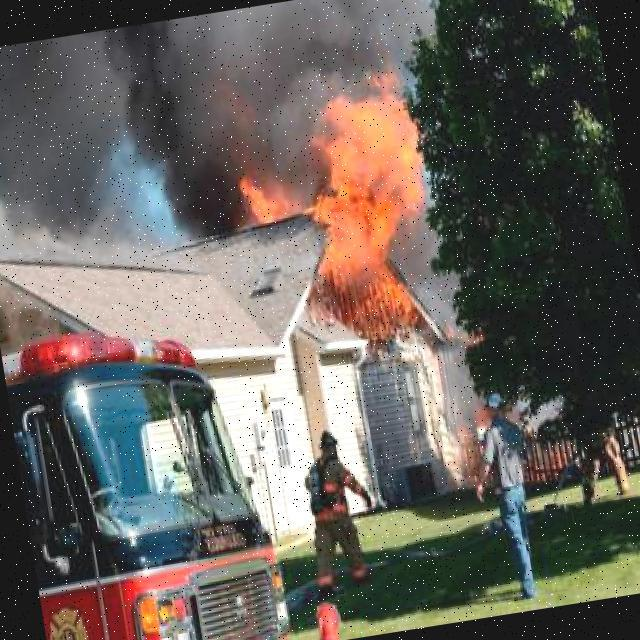Fire: (296, 73, 441, 283), (236, 164, 296, 237)
Smoke: (94, 13, 248, 263)
